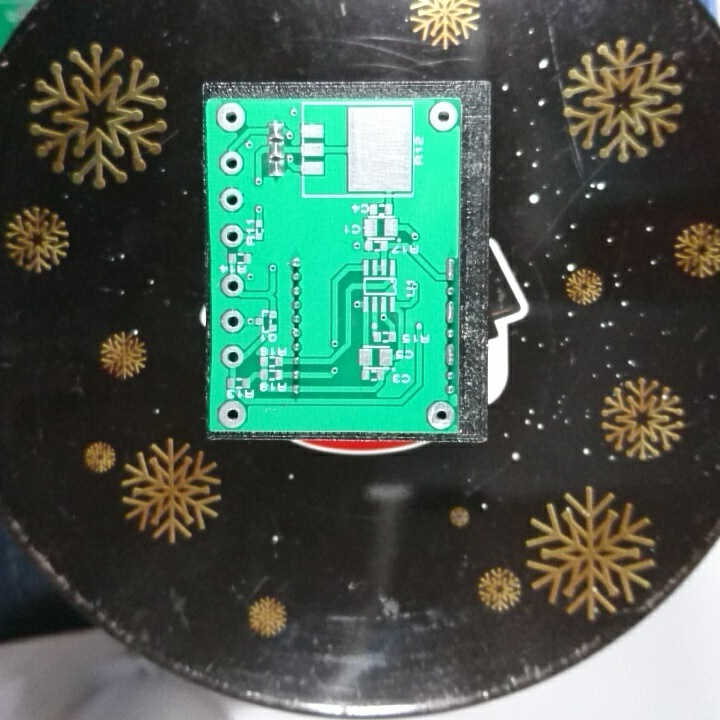F: (214, 100, 248, 132), (217, 398, 250, 430), (425, 399, 457, 431), (426, 100, 458, 132), (218, 271, 247, 300), (218, 222, 247, 249), (217, 149, 245, 176), (219, 308, 247, 335), (219, 343, 246, 370), (218, 186, 246, 212)
P: (442, 341, 457, 368), (444, 255, 457, 283), (444, 299, 456, 325)
